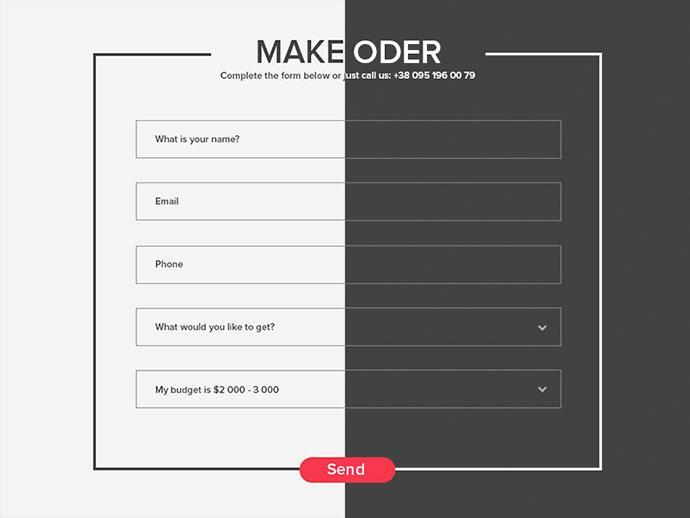button: (300, 457, 396, 484)
dropdown: (137, 309, 562, 347), (137, 371, 562, 409)
input: (137, 183, 563, 222), (137, 247, 563, 285), (137, 122, 562, 158)
